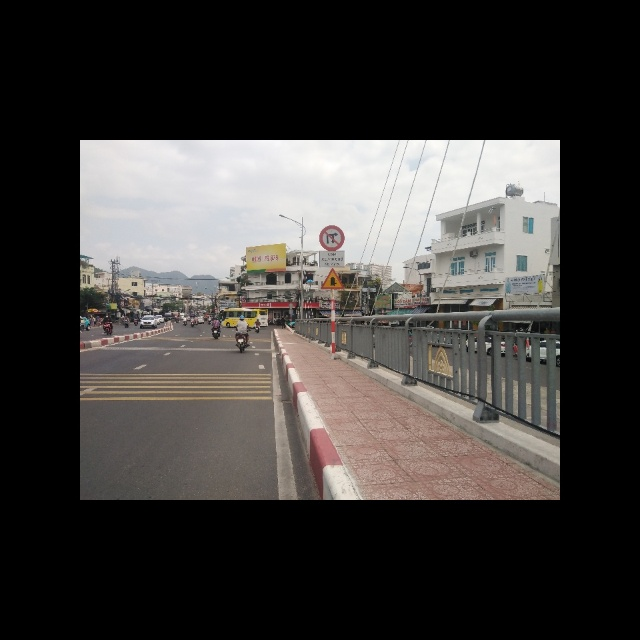Cấm quay đầu và rẽ phải: (318, 224, 344, 251)
Giao nhau với đường không ưu tiên: (320, 269, 345, 290)
